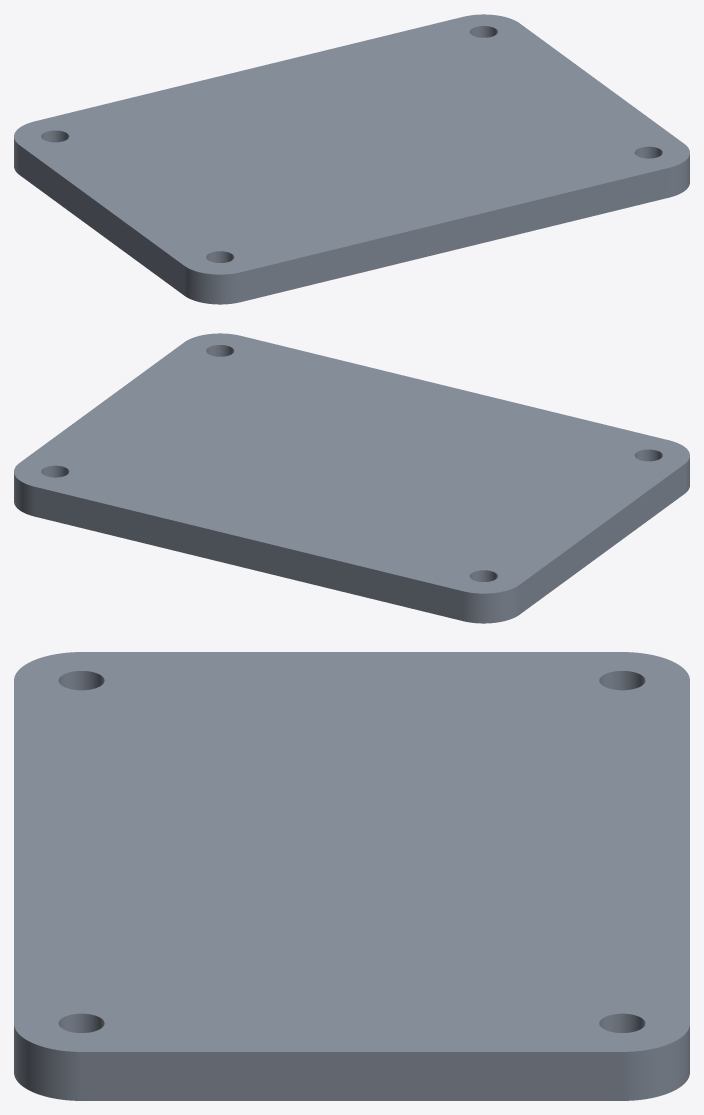
The model's file is step-1.glb.
3 renders of one model, top to bottom at view 1: azimuth 30°, elevation 25°; view 2: azimuth 150°, elevation 25°; view 3: azimuth 270°, elevation 25°, orthographic. The views are drawn at different scales.
Parts seen in each view (by area): view 1: face_da89f9474d042de108d3, face_90e705d0b79c586715c6, face_af3e0bfc63ac36b18648, face_266579ef883e43a1ff22, face_ef8d59ee62935898d1df; view 2: face_da89f9474d042de108d3, face_1713bfa9cd2cdc202364, face_af3e0bfc63ac36b18648, face_5ee39c3ce899d2fd9e17, face_9925c98cc6b5da2f5129; view 3: face_da89f9474d042de108d3, face_4eaf18a6b39c55dc2bdb, face_ef8d59ee62935898d1df, face_9925c98cc6b5da2f5129, face_a5802284233786de84fd, face_75888753fee40f5db7e0, face_fb689a56aa8001dbba5b, face_61ab87a94ec7d2eea844.
Part boxes in pixels (bbox=[...]): face_da89f9474d042de108d3: bbox=[14, 14, 689, 274]; face_90e705d0b79c586715c6: bbox=[240, 168, 669, 301]; face_af3e0bfc63ac36b18648: bbox=[19, 145, 184, 295]; face_266579ef883e43a1ff22: bbox=[184, 266, 240, 304]; face_ef8d59ee62935898d1df: bbox=[669, 154, 689, 197]; face_da89f9474d042de108d3: bbox=[14, 333, 689, 593]; face_1713bfa9cd2cdc202364: bbox=[34, 487, 463, 620]; face_af3e0bfc63ac36b18648: bbox=[519, 464, 684, 614]; face_5ee39c3ce899d2fd9e17: bbox=[463, 585, 519, 623]; face_9925c98cc6b5da2f5129: bbox=[14, 473, 34, 516]; face_da89f9474d042de108d3: bbox=[14, 652, 689, 1051]; face_4eaf18a6b39c55dc2bdb: bbox=[81, 1052, 622, 1100]; face_ef8d59ee62935898d1df: bbox=[14, 1025, 81, 1100]; face_9925c98cc6b5da2f5129: bbox=[622, 1025, 689, 1100]; face_a5802284233786de84fd: bbox=[58, 1013, 104, 1032]; face_75888753fee40f5db7e0: bbox=[599, 1013, 645, 1032]; face_fb689a56aa8001dbba5b: bbox=[58, 671, 104, 690]; face_61ab87a94ec7d2eea844: bbox=[599, 671, 645, 690].
Size of the model in its own units: 0.07 by 0.004 by 0.05.
